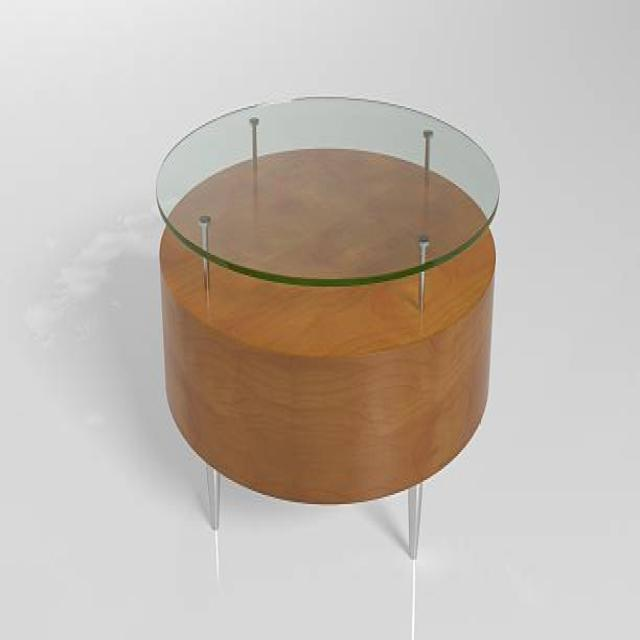table: (156, 95, 500, 564)
